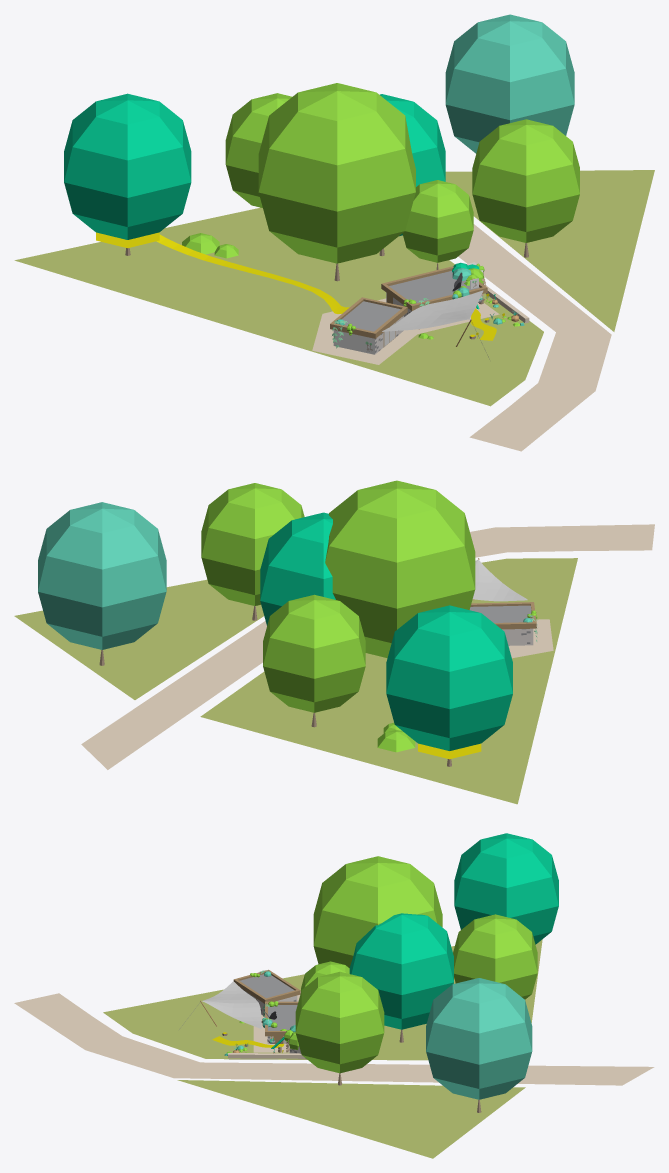
3 renders of one model, top to bottom at view 1: azimuth 30°, elevation 25°; view 2: azimuth 150°, elevation 25°; view 3: azimuth 270°, elevation 25°, orthographic. The views are drawn at different scales.
Visible parts, largest first — view 1: Empty_Mesh; view 2: Empty_Mesh; view 3: Empty_Mesh.
Boxes of the visible parts, bbox=[...] form: Empty_Mesh: bbox=[14, 14, 654, 451]; Empty_Mesh: bbox=[14, 480, 654, 804]; Empty_Mesh: bbox=[14, 833, 654, 1158].
Size of the model in its own units: 2389 by 2816 by 777.
